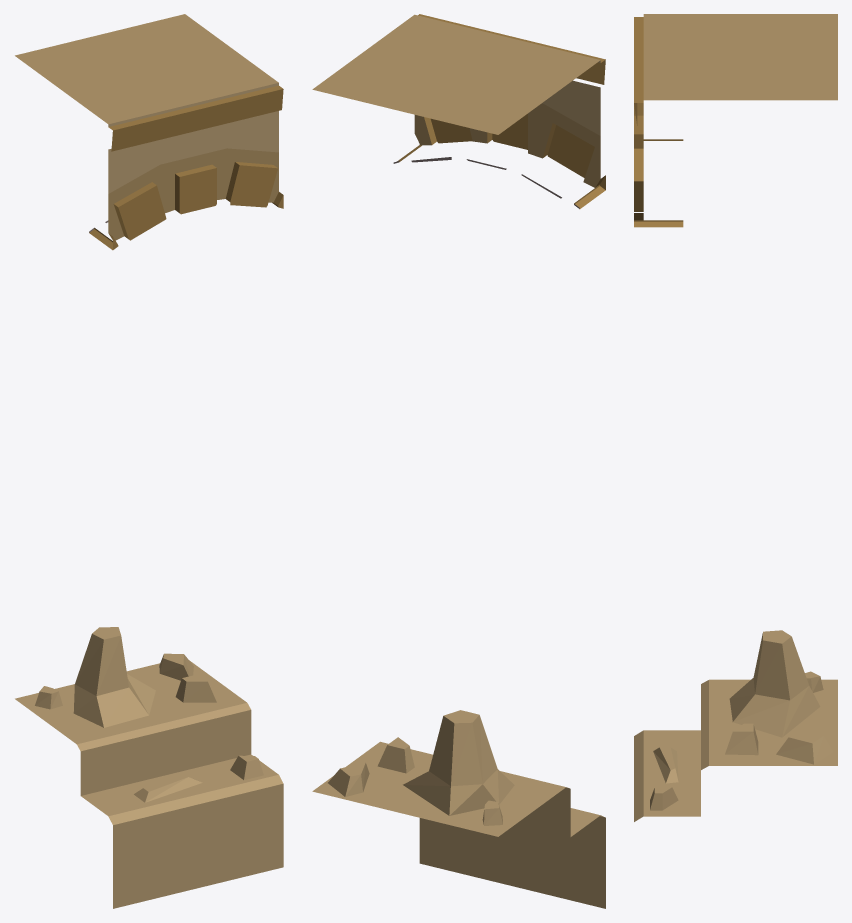
Rendered from model_loc_3074_8.obj.
3 views of the same model, side by side, from view 1: azimuth 30°, elevation 25°; view 2: azimuth 150°, elevation 25°; view 3: azimuth 270°, elevation 25° (orthographic). The views are drawn at different scales.
Parts seen in each view (by area): view 1: 3243; view 2: 3243; view 3: 3243.
Part boxes in pixels (left/top/right/bottom): 3243: left=15, top=14, right=283, bottom=908; 3243: left=312, top=14, right=605, bottom=908; 3243: left=634, top=14, right=837, bottom=821.
Size of the model in its own units: 128 by 560 by 128.
